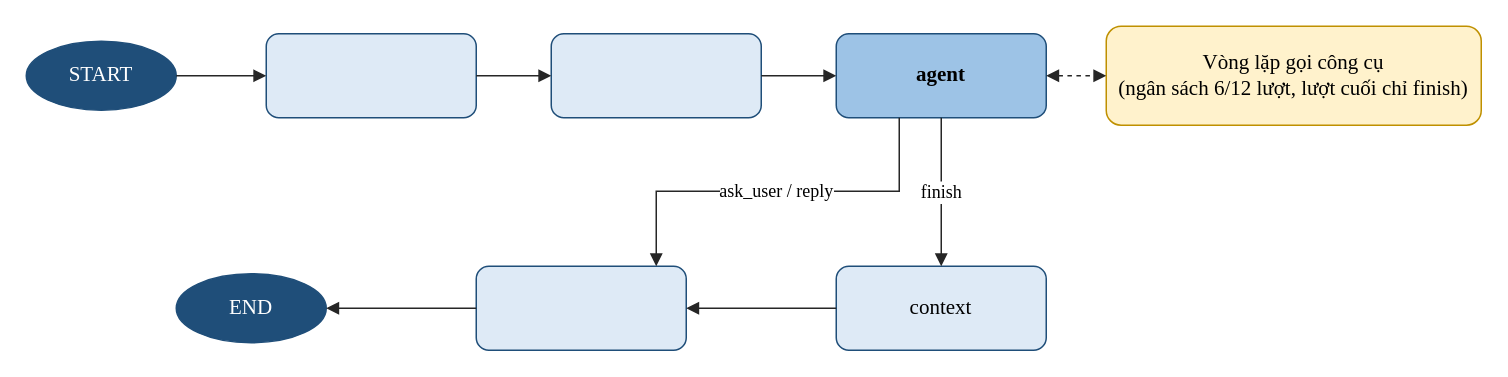
Some shapes in this 1508 by 377 pixel diagram are drawn without their labels. The centre of each missing label's shape, as x and y in pixels:
"memory" belongs at pixel 655 75.
"prompt" belongs at pixel 580 307.
"scope" belongs at pixel 370 75.
